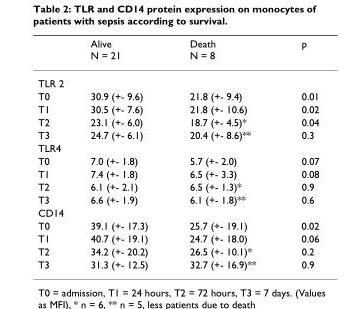table: (37, 37, 318, 269)
table column: (168, 37, 277, 269), (76, 37, 168, 269), (277, 37, 318, 269), (37, 37, 76, 269)
table column header: (37, 37, 318, 68)
table projected row header: (37, 68, 318, 89), (37, 205, 318, 218), (37, 141, 318, 153)
table row: (37, 37, 318, 68), (37, 68, 318, 89), (37, 89, 318, 102), (37, 102, 318, 115), (37, 115, 318, 128), (37, 128, 318, 141), (37, 153, 318, 166), (37, 166, 318, 179), (37, 179, 318, 192), (37, 192, 318, 205), (37, 205, 318, 218), (37, 218, 318, 231), (37, 231, 318, 244), (37, 244, 318, 257), (37, 141, 318, 153), (37, 257, 318, 269)
